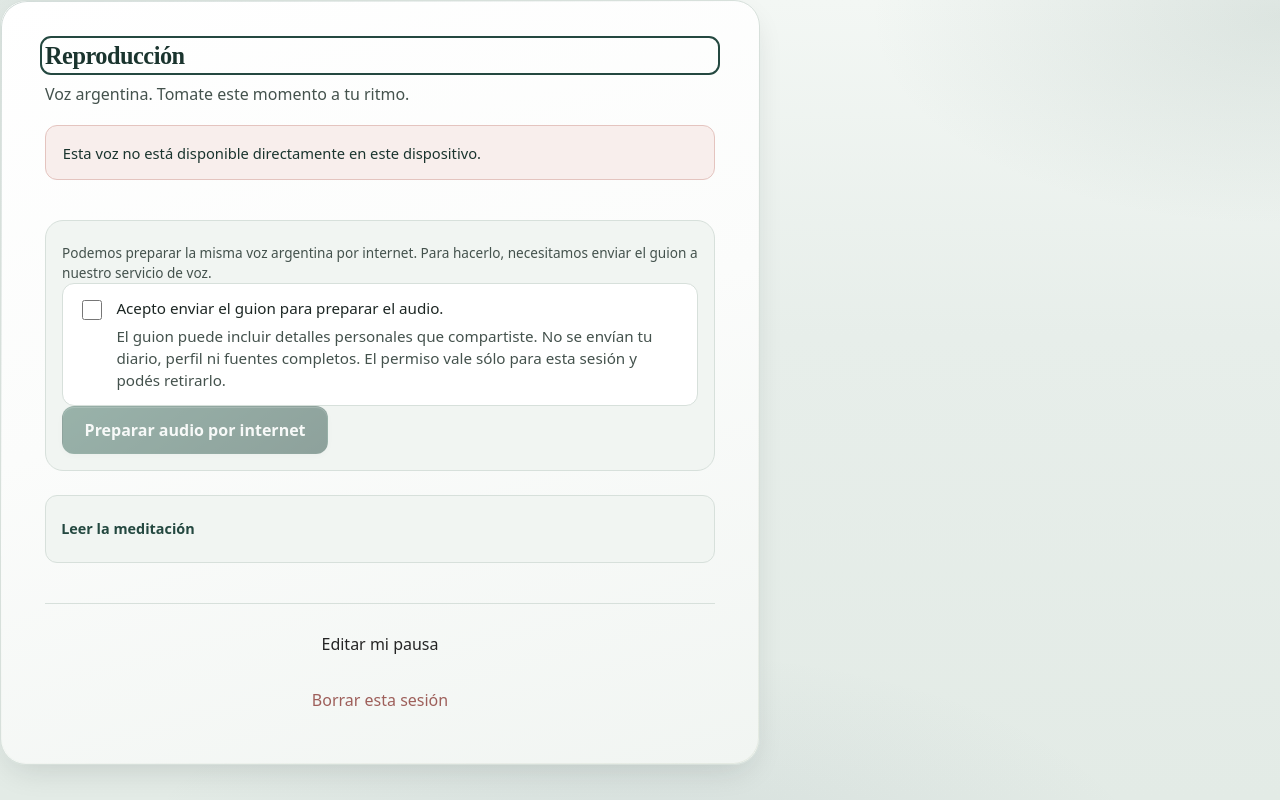
it: PlaybackStep — voz sencilla y consentimiento › revoking permission cancels the request and discards a late online result
Click the checkbox labelled "Acepto enviar el guion": (92, 310) top-left (82, 300), bottom-right (102, 320)
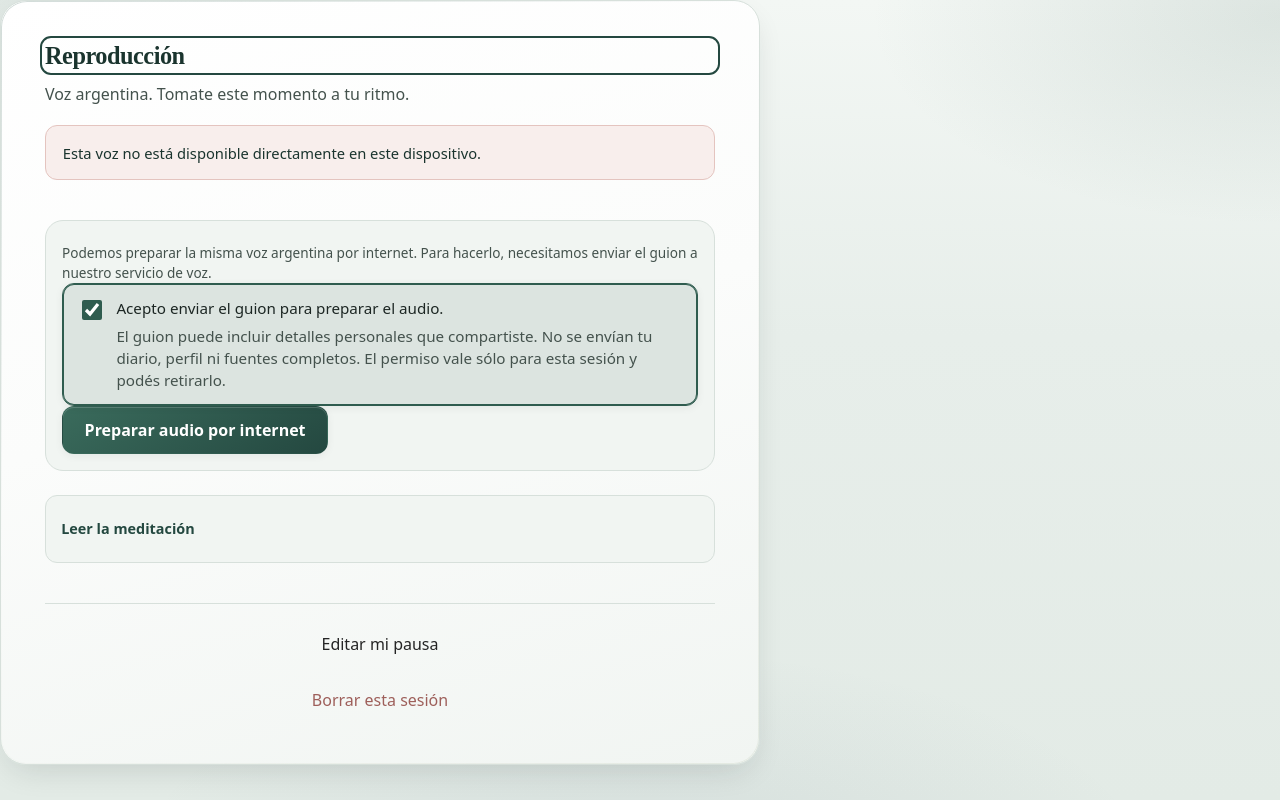
Click the button "Preparar audio por internet": (195, 430) top-left (62, 406), bottom-right (328, 454)
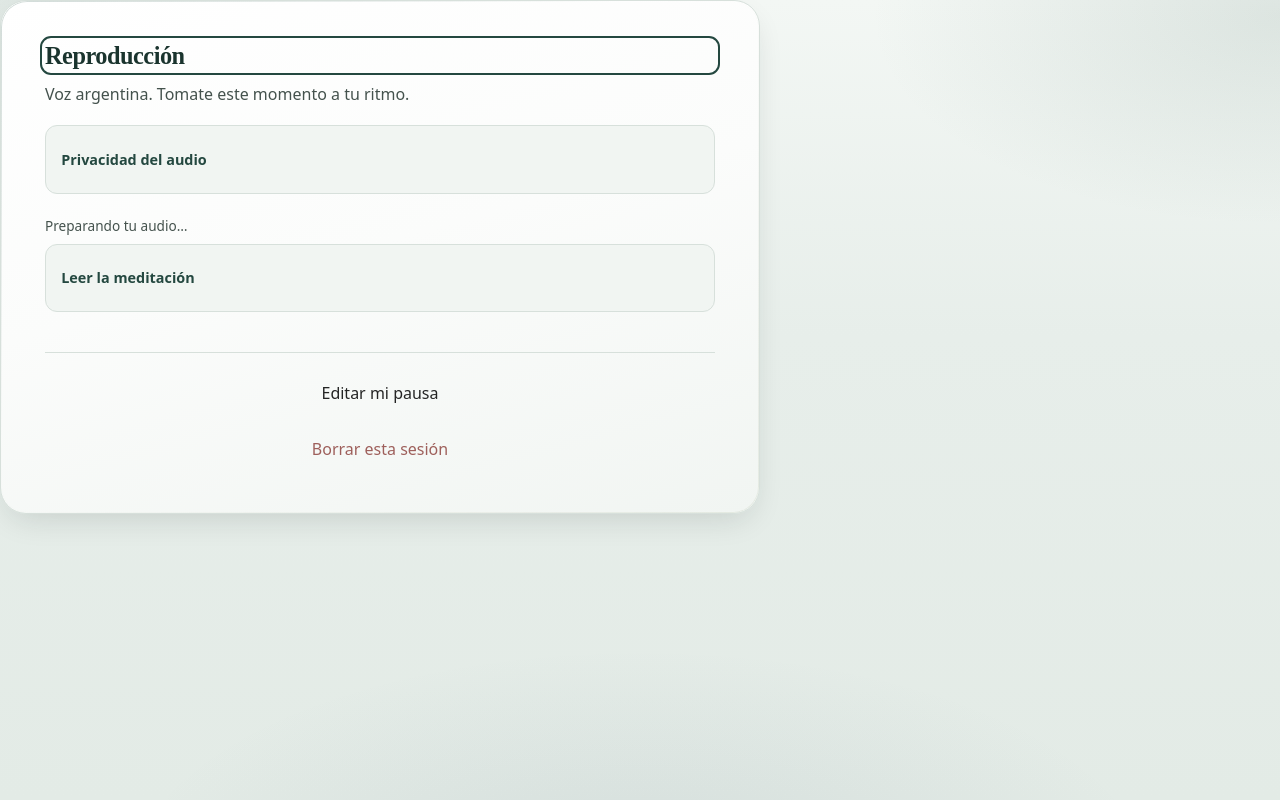
Click the heading "Privacidad del audio": (134, 159) top-left (61, 150), bottom-right (207, 169)
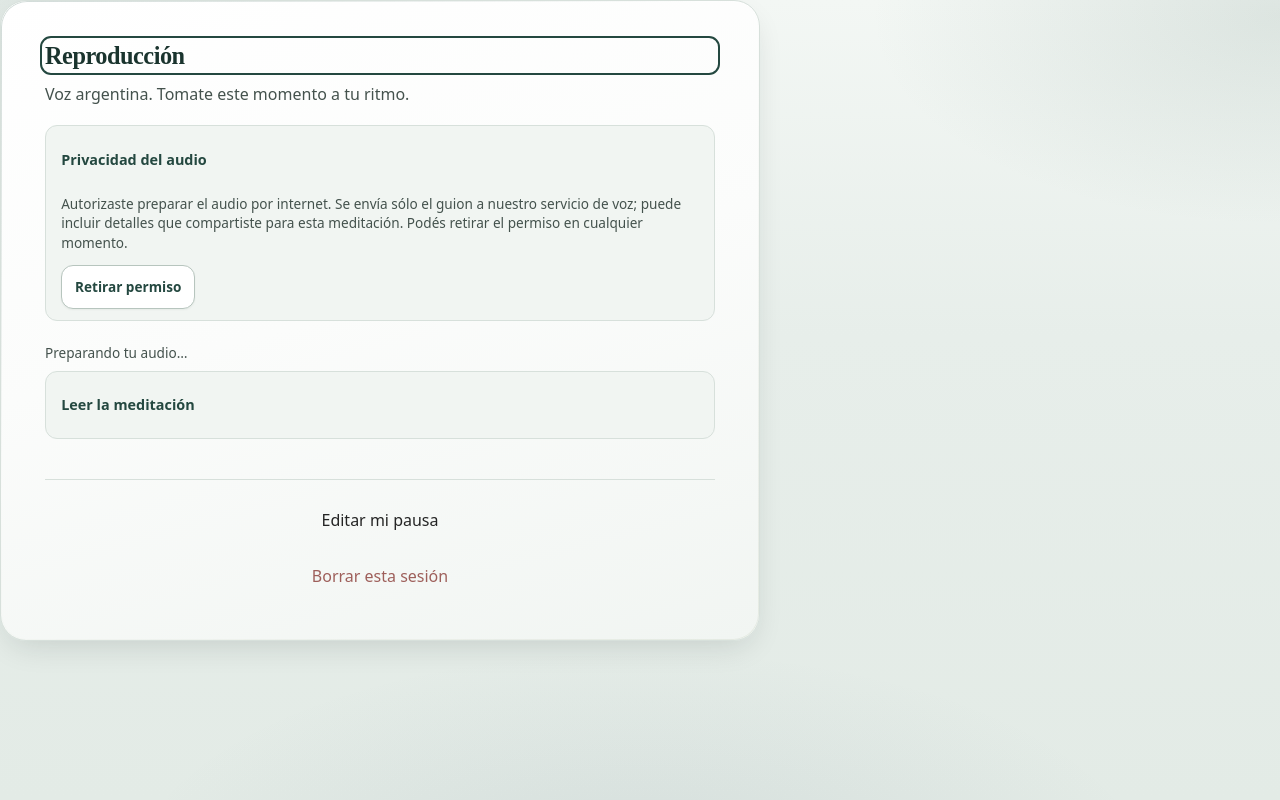
Click the button "Retirar permiso": (128, 287) top-left (61, 265), bottom-right (195, 309)
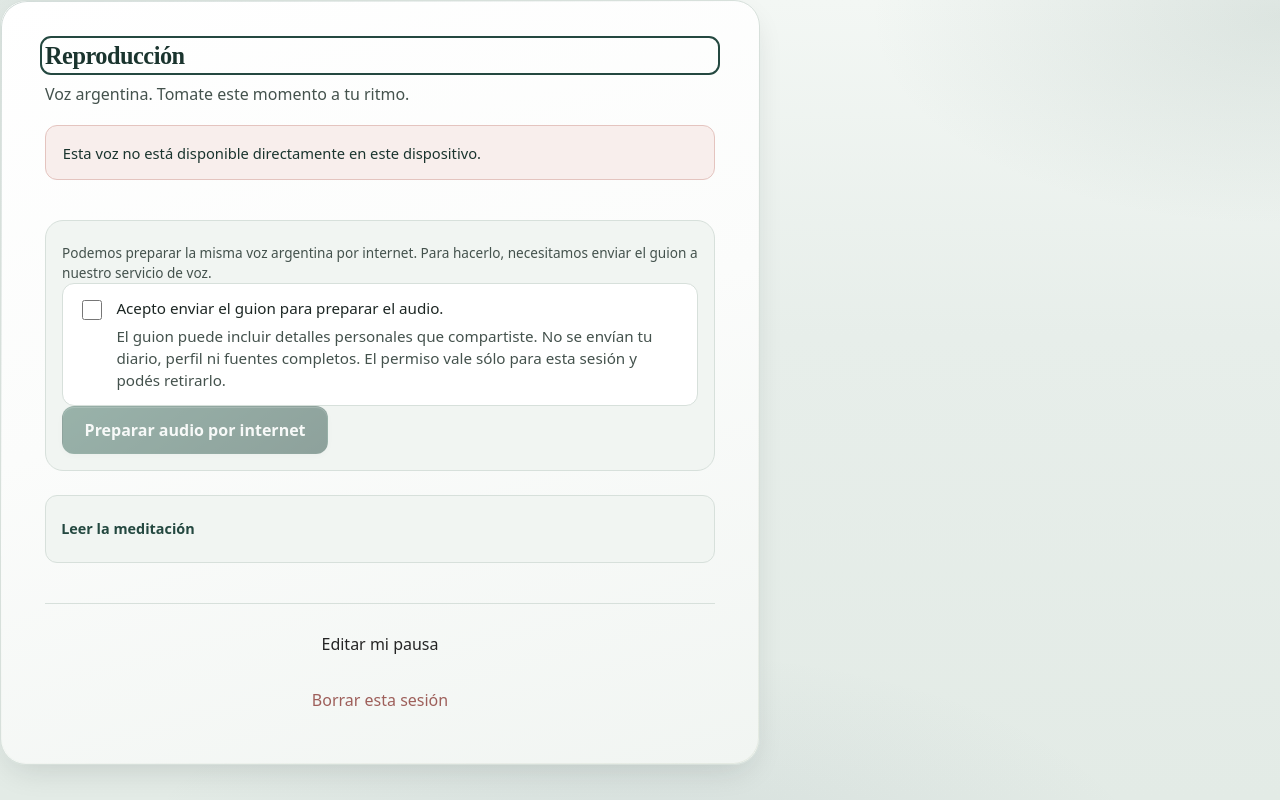
Now the checkbox is not checked, box top-left (82, 300), bottom-right (102, 320)
Now the button "Preparar audio por internet" is disabled, box top-left (62, 406), bottom-right (328, 454)
